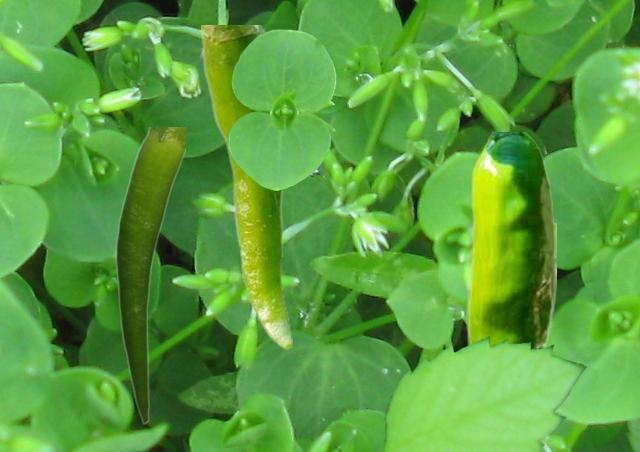green_chili: (201, 25, 291, 348), (115, 127, 184, 423), (466, 132, 555, 347)
